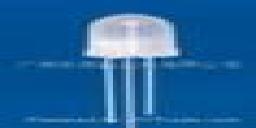LED: (82, 10, 182, 128)
